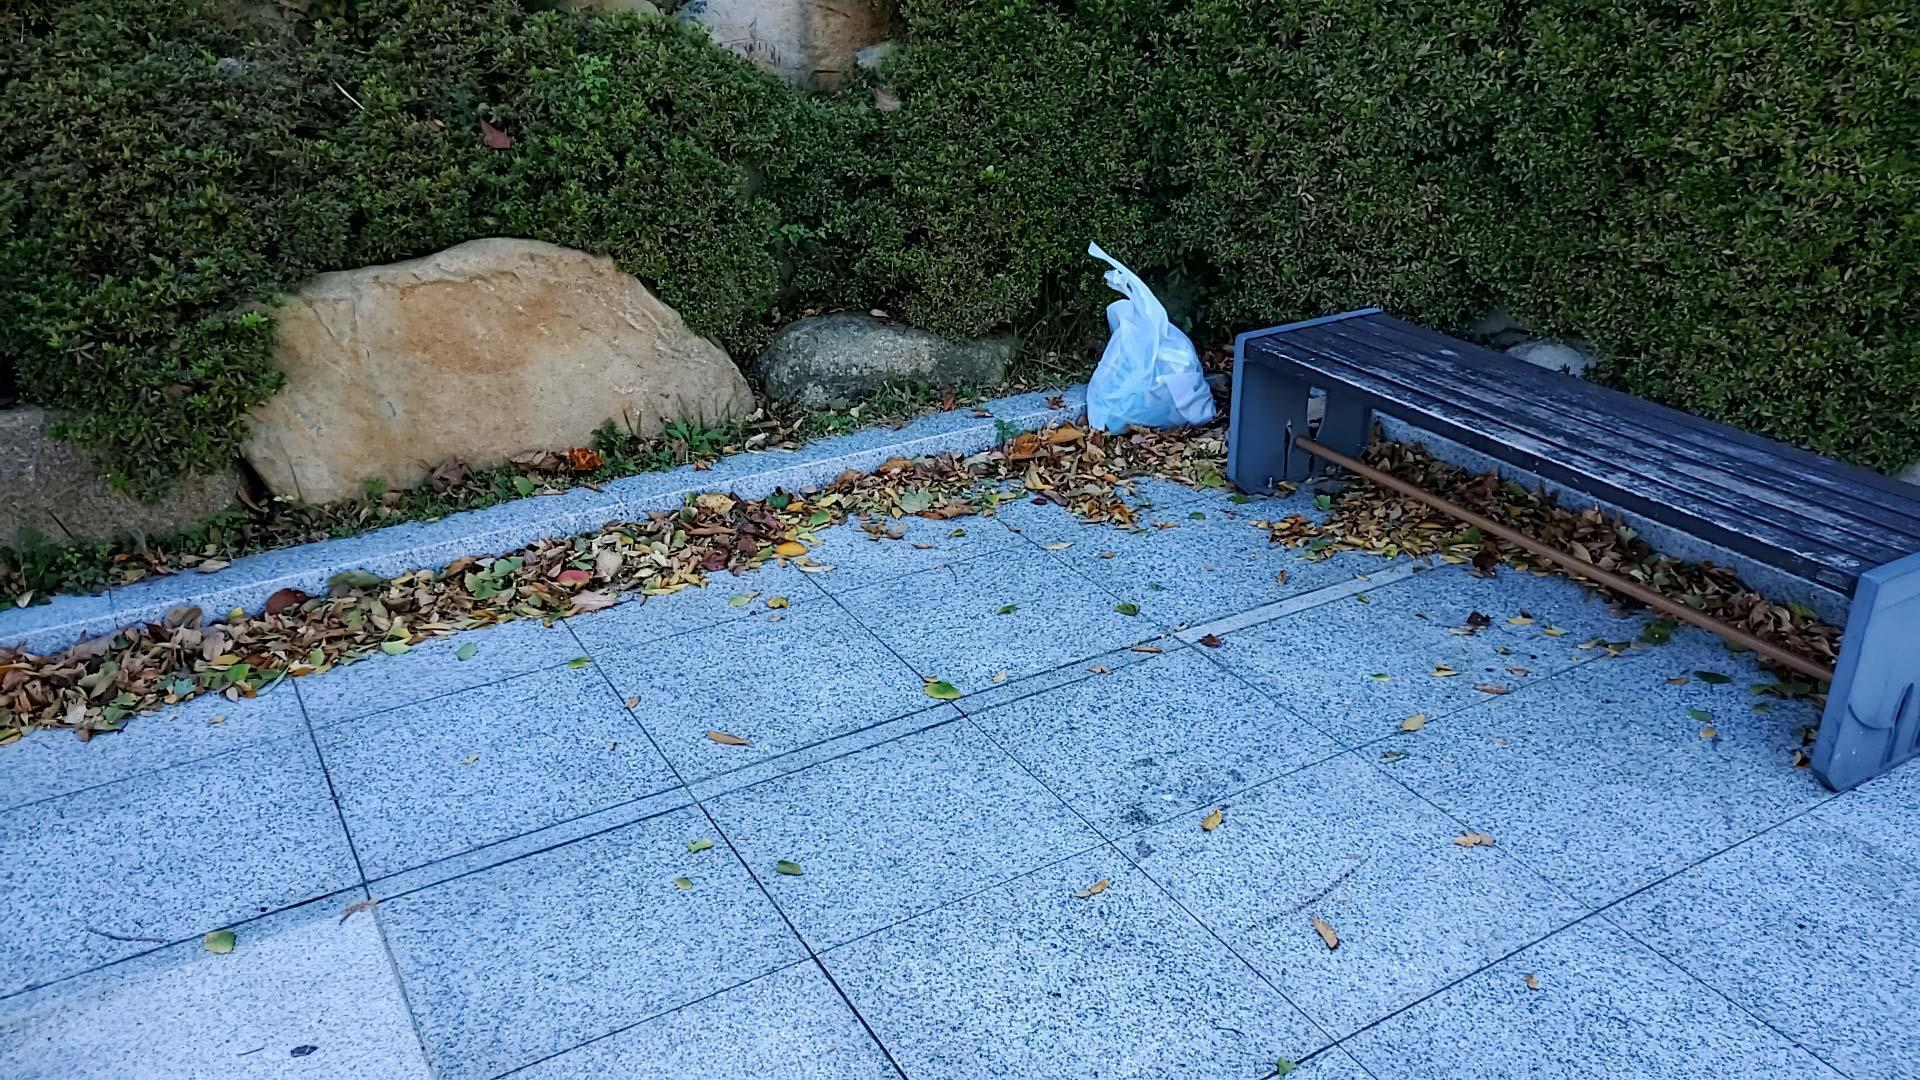white_bag: (1075, 235, 1222, 436)
